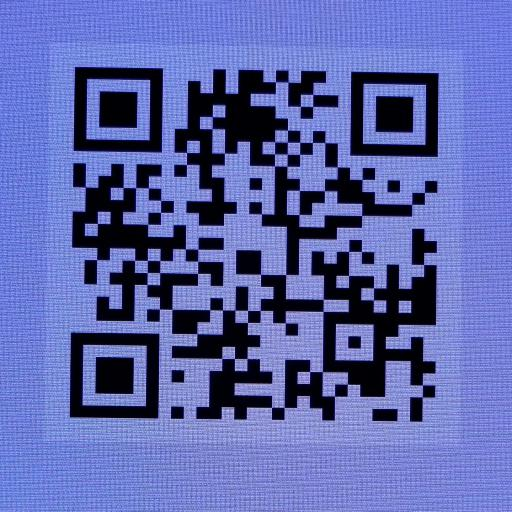QR_CODE: (50, 41, 462, 443)
